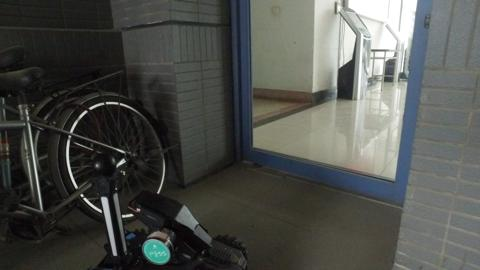bike: (3, 67, 167, 221)
chariot: (87, 156, 253, 269)
